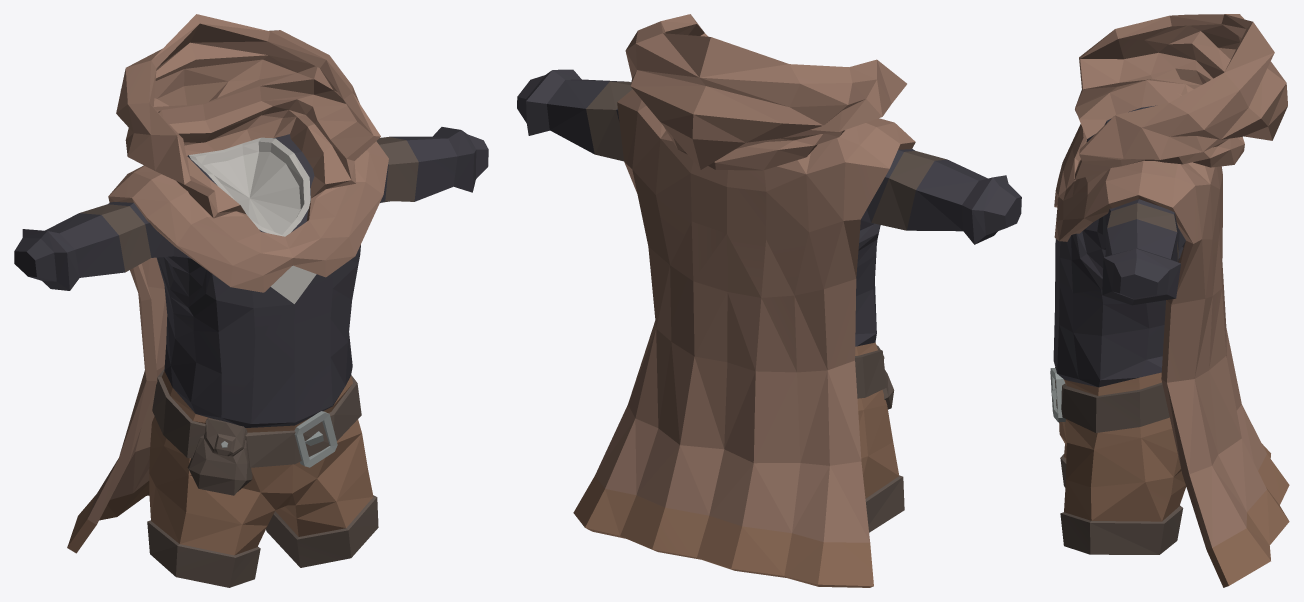
File: armorAdventureDisplay.fbx
The picture shows the model from 3 angles, left to right: view 1: azimuth 30°, elevation 25°; view 2: azimuth 150°, elevation 25°; view 3: azimuth 270°, elevation 25°; orthographic projection. The views are drawn at different scales.
Parts seen in each view (by area): view 1: armorAdventureDisplay; view 2: armorAdventureDisplay; view 3: armorAdventureDisplay.
Boxes of the visible parts, left/top/right/bottom form: armorAdventureDisplay: left=14, top=14, right=488, bottom=587; armorAdventureDisplay: left=517, top=14, right=1021, bottom=587; armorAdventureDisplay: left=1050, top=14, right=1289, bottom=587.
Bounding box in the file's own units: 1.75 × 1.82 × 0.7819.
